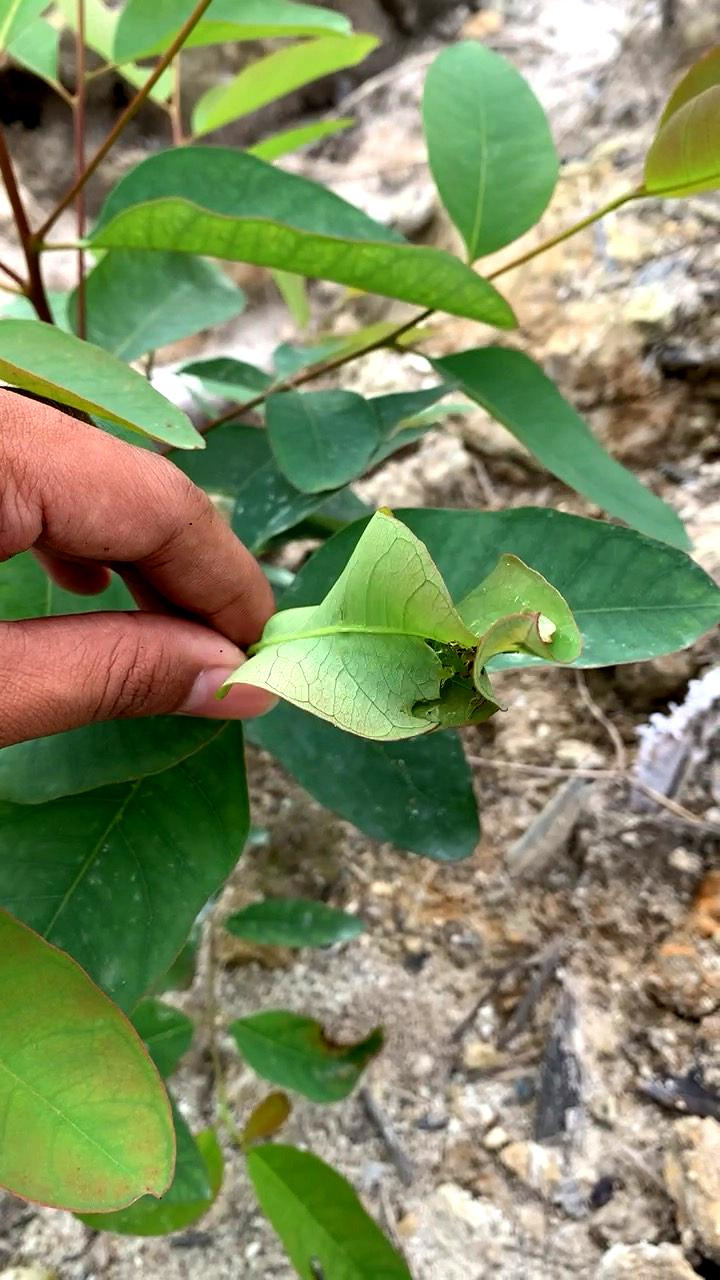Leaf Roller - Leaf: (223, 476, 587, 766)
